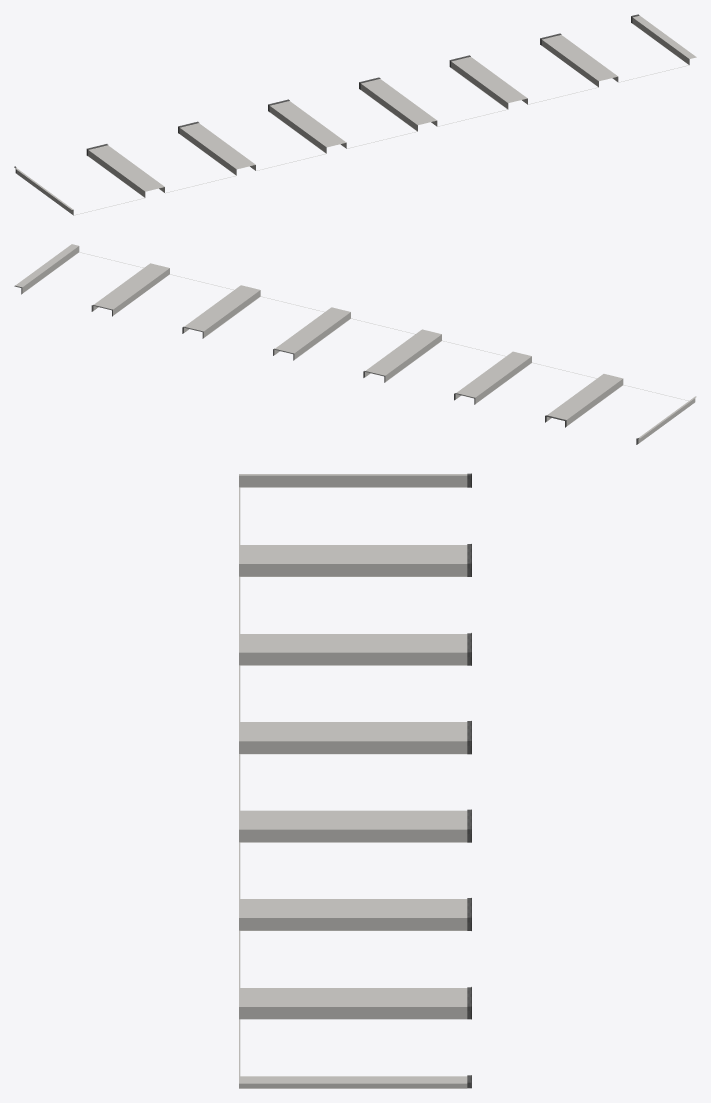
The model's file is SM_Living_Wall_03.obj.
3 views of the same model, one above another, from view 1: azimuth 30°, elevation 25°; view 2: azimuth 150°, elevation 25°; view 3: azimuth 270°, elevation 25° (orthographic). The views are drawn at different scales.
Visible parts, largest first — view 1: SM_Living_Wall_03; view 2: SM_Living_Wall_03; view 3: SM_Living_Wall_03.
Part boxes in pixels (box(x1,y1,x2,y2)): SM_Living_Wall_03: box(14, 14, 696, 215); SM_Living_Wall_03: box(14, 244, 696, 444); SM_Living_Wall_03: box(239, 473, 471, 1088).
Size of the model in its own units: 18.95 by 0.1995 by 3.06.
Materials: 2 (1 with a texture image).
